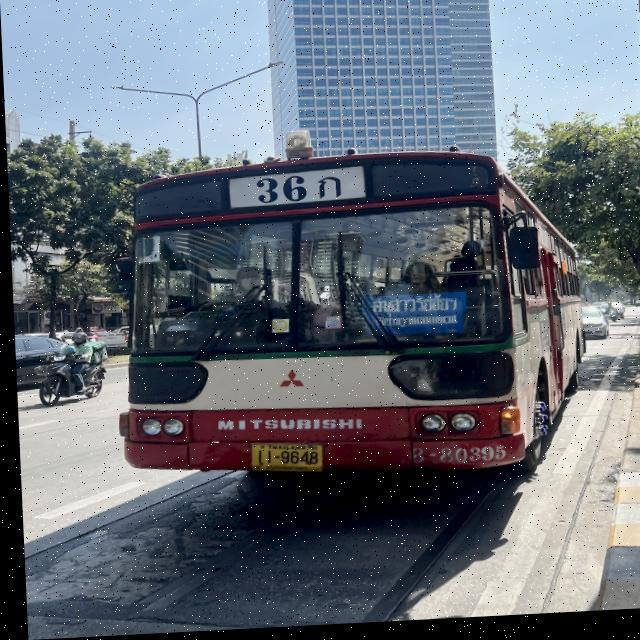BMTA-bus: (106, 146, 587, 492)
Bus-Line-Number: (233, 171, 353, 213)
Destination-Sign-Normal: (355, 295, 460, 347)
